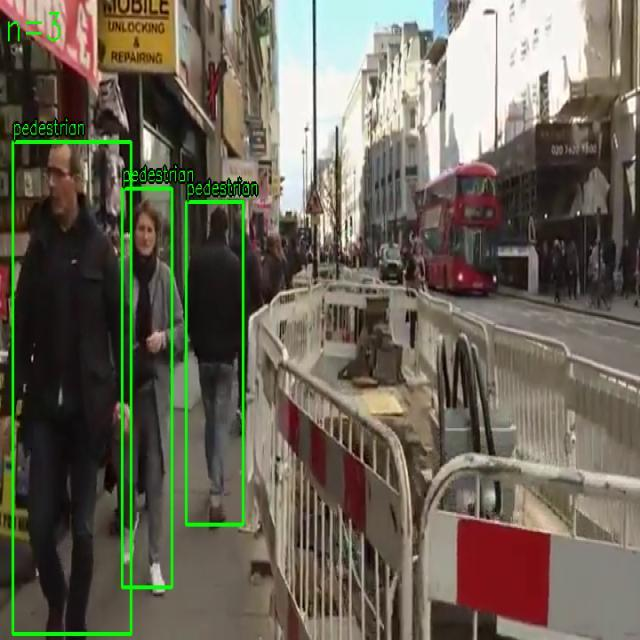with scooter: (12, 141, 132, 635), (122, 188, 172, 588), (186, 202, 243, 526)
